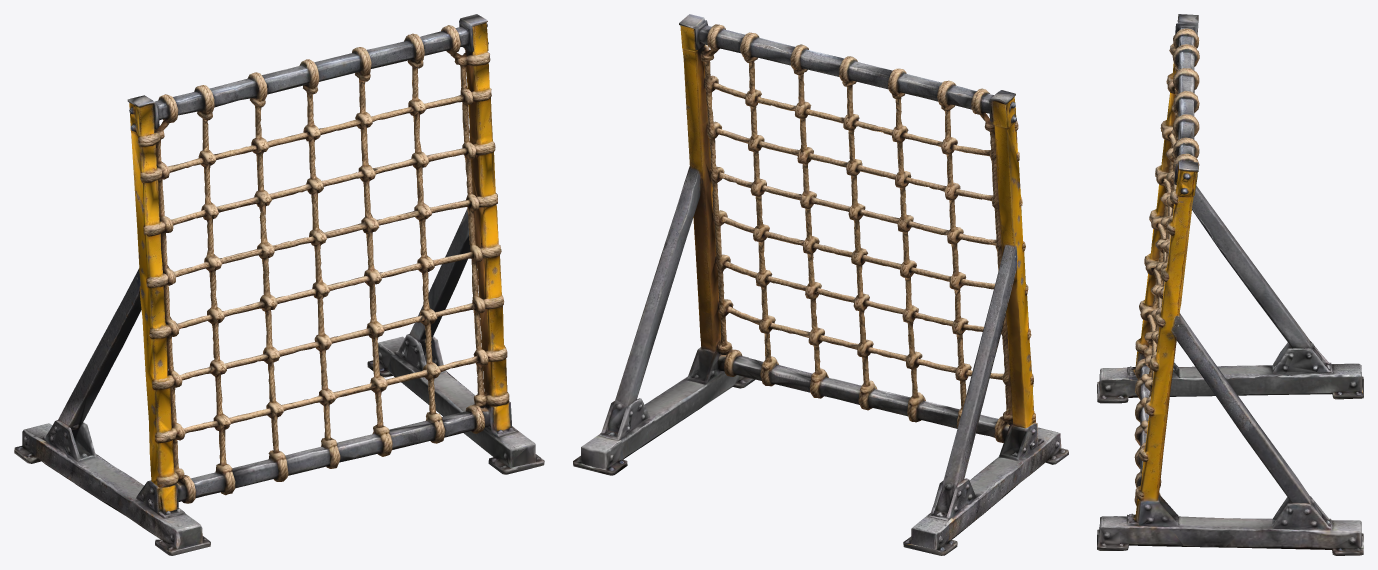
File: rope-net.glb
The picture shows the model from 3 angles, left to right: view 1: azimuth 30°, elevation 25°; view 2: azimuth 150°, elevation 25°; view 3: azimuth 270°, elevation 25°; orthographic projection. The views are drawn at different scales.
Visible parts, largest first — view 1: tripo_node_19ce0abb-e236-4724-b56c-93ee94411ae5; view 2: tripo_node_19ce0abb-e236-4724-b56c-93ee94411ae5; view 3: tripo_node_19ce0abb-e236-4724-b56c-93ee94411ae5.
Boxes of the visible parts, x1,y1,x2,y2 form: tripo_node_19ce0abb-e236-4724-b56c-93ee94411ae5: (14, 14, 544, 555); tripo_node_19ce0abb-e236-4724-b56c-93ee94411ae5: (573, 14, 1068, 555); tripo_node_19ce0abb-e236-4724-b56c-93ee94411ae5: (1097, 14, 1363, 555).
Size of the model in its own units: 0.9811 by 0.9783 by 0.6275.
Materials: 1 (1 with a texture image).
